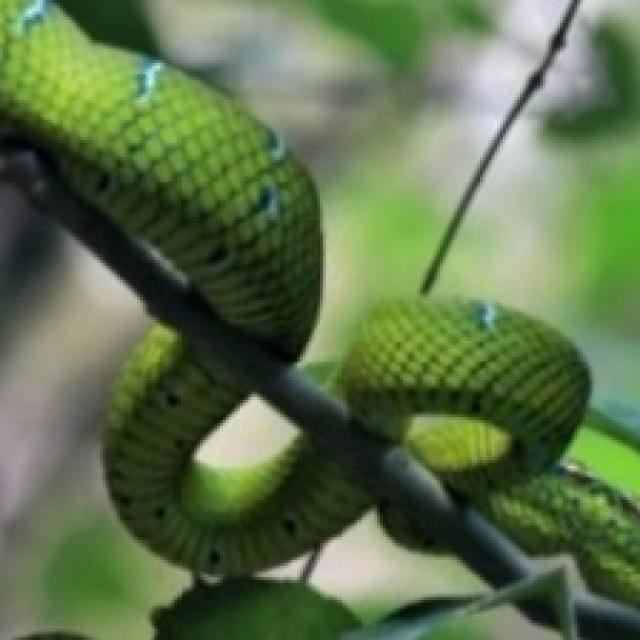north ph temple pitviper: (0, 0, 586, 583)
